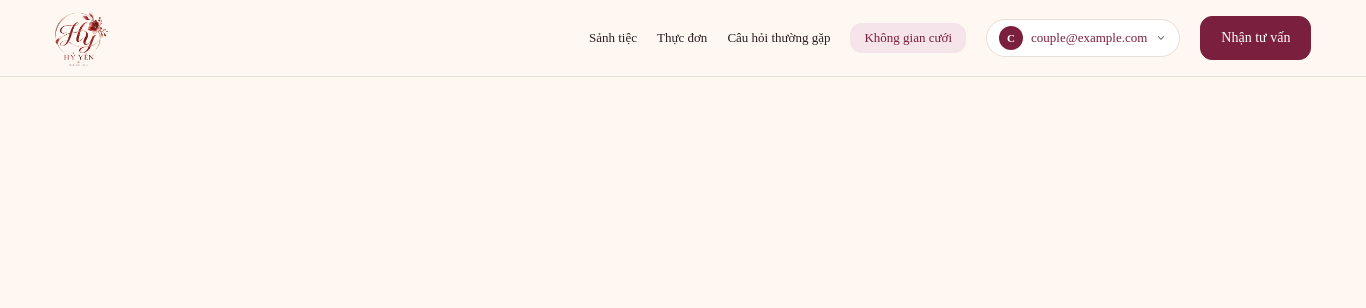
Test: public navbar authentication › shows a logout connection failure without an unhandled rejection or success redirect
Click the button with aria-label "Tài khoản couple@example.com" at [1083, 38], box [986,19,1180,57]
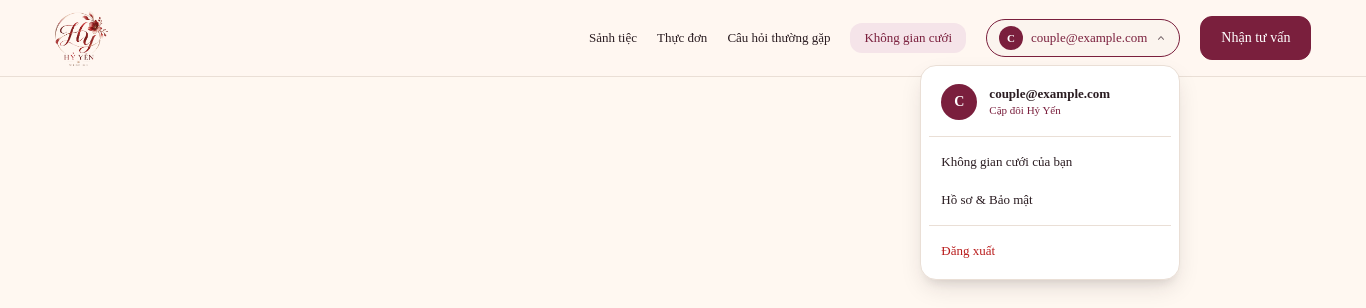
Click the menu item "Đăng xuất" at [1050, 252], box [929,232,1171,271]
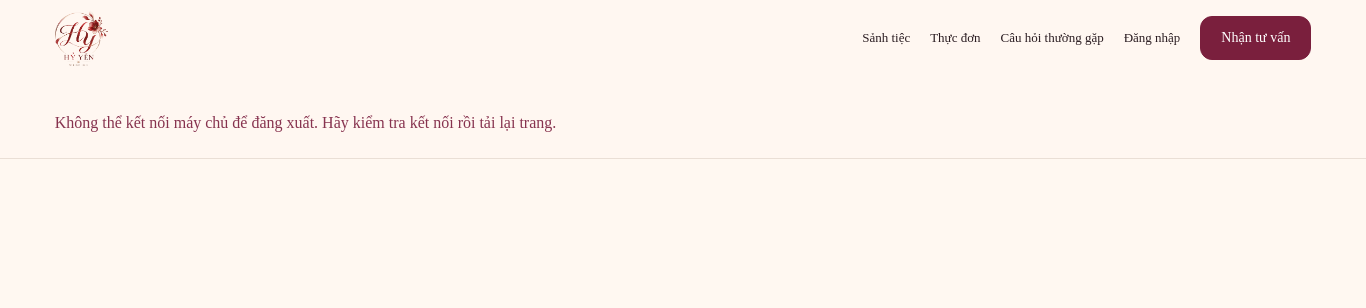
expect the message shows "Không thể kết nối máy chủ": met, box [55,114,556,131]
